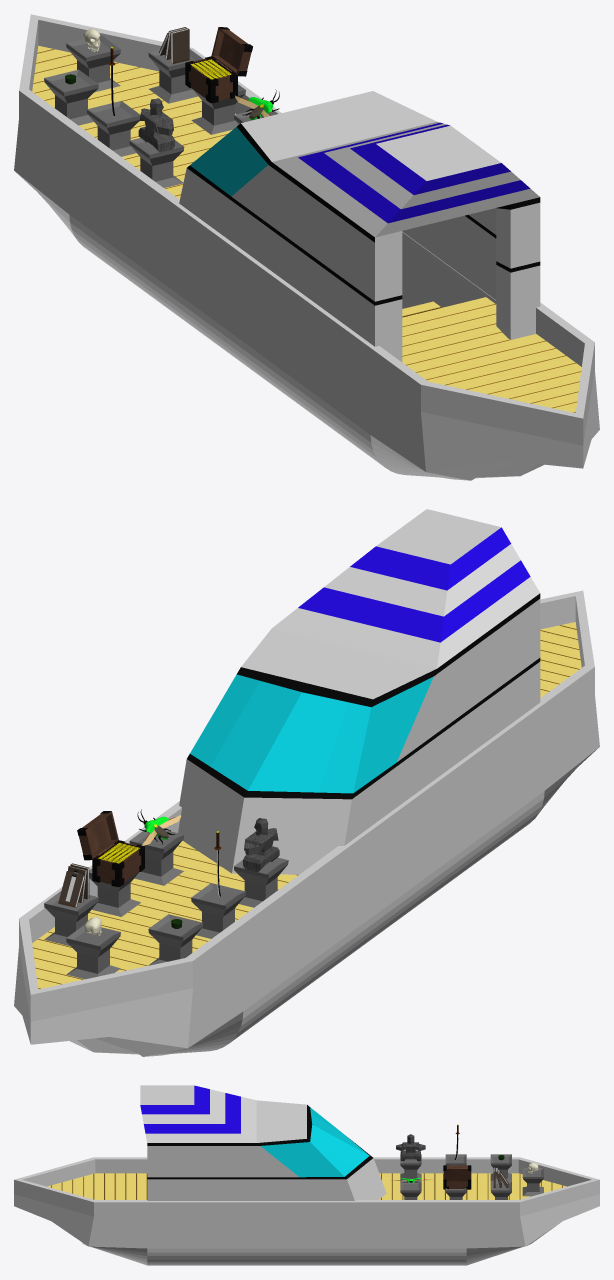
File: Bort.fbx
The picture shows the model from 3 angles, top to bottom: view 1: azimuth 30°, elevation 25°; view 2: azimuth 150°, elevation 25°; view 3: azimuth 270°, elevation 25°; orthographic projection. The views are drawn at different scales.
Visible parts, largest first — view 1: Cube.657, Cube.664, Wood1_M.086, Wood1_M.085, Wood1_M.089, Wood1_M.091, Cube.668, Cube.666, Cube.665, Cube.667, Cube.670, Cube.678 (+4 smaller); view 2: Cube.664, Cube.657, Wood1_M.091, Wood1_M.089, Wood1_M.085, Cube.665, Cube.668, Cube.671, Cube.666, Cube.670, Cube.667, Cube.678 (+3 smaller); view 3: Cube.657, Cube.664, Wood1_M.091, Wood1_M.085, Wood1_M.086, Wood1_M.089, Cube.665, Cube.677, Cube.676, Cube.666, Cube.670, Cube.671 (+2 smaller).
Boxes of the visible parts, box(x1,y1,x2,y2) form: Cube.657: box(14, 14, 599, 480); Cube.664: box(179, 91, 540, 362); Wood1_M.086: box(402, 297, 565, 385); Wood1_M.085: box(446, 356, 581, 412); Wood1_M.089: box(32, 45, 164, 108); Wood1_M.091: box(79, 96, 236, 199); Cube.668: box(86, 101, 140, 156); Cube.666: box(44, 69, 98, 125); Cube.665: box(66, 35, 120, 91); Cube.667: box(148, 49, 202, 103); Cube.670: box(129, 138, 184, 187); Cube.678: box(185, 56, 237, 103); Cube.664: box(178, 509, 540, 874); Cube.657: box(14, 590, 599, 1056); Wood1_M.091: box(48, 840, 298, 958); Wood1_M.089: box(32, 932, 156, 989); Wood1_M.085: box(540, 622, 581, 697); Cube.665: box(66, 924, 120, 979); Cube.668: box(191, 883, 245, 938); Cube.671: box(129, 829, 184, 885); Cube.666: box(148, 914, 203, 965); Cube.670: box(234, 857, 288, 907); Cube.667: box(44, 891, 98, 946); Cube.678: box(92, 840, 144, 887); Cube.657: box(14, 1157, 599, 1265); Cube.664: box(140, 1085, 386, 1200); Wood1_M.091: box(379, 1173, 494, 1199); Wood1_M.085: box(47, 1173, 115, 1199); Wood1_M.086: box(115, 1173, 147, 1199); Wood1_M.089: box(508, 1173, 566, 1199); Cube.665: box(522, 1168, 543, 1196); Cube.677: box(443, 1165, 471, 1181); Cube.676: box(396, 1134, 425, 1161); Cube.666: box(490, 1154, 511, 1181); Cube.670: box(400, 1154, 421, 1181); Cube.671: box(400, 1181, 421, 1199).
Size of the model in its own units: 400 by 653 by 2200.
Materials: 27 (7 with a texture image).
